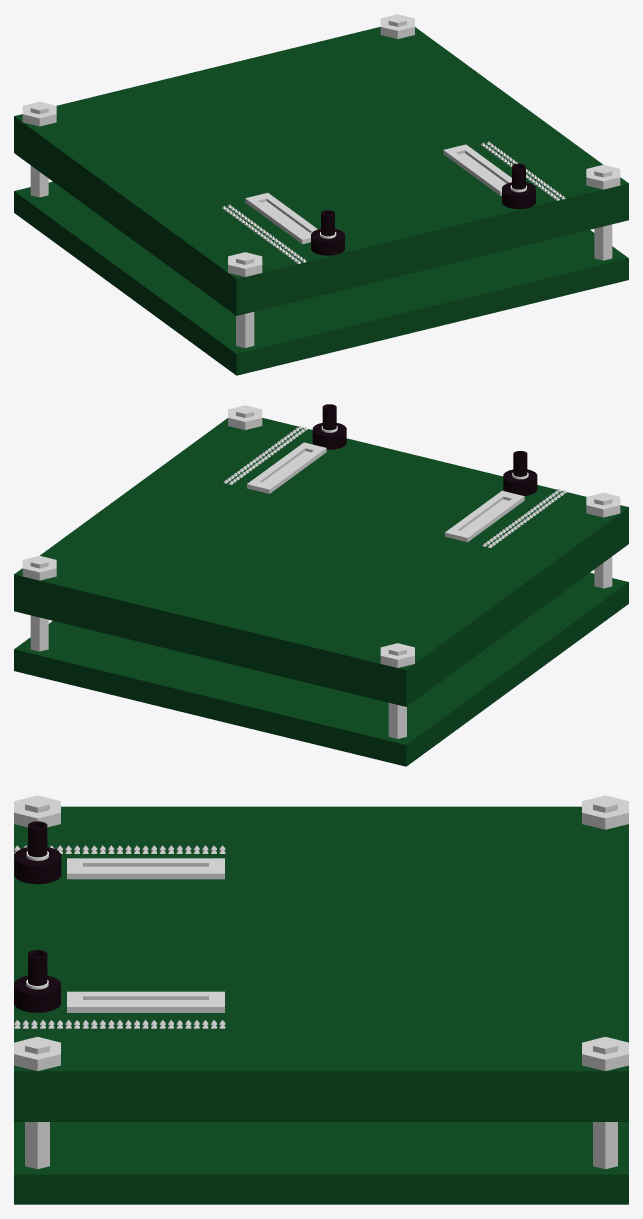
Rendered from CactusBoard.FBX.
The picture shows the model from 3 angles, top to bottom: view 1: azimuth 30°, elevation 25°; view 2: azimuth 150°, elevation 25°; view 3: azimuth 270°, elevation 25°; orthographic projection. The views are drawn at different scales.
Parts seen in each view (by area): view 1: Platine, Platine001, Box002, Box001, Gengon001, Gengon004, Gengon003, Gengon002, Cylinder003, Cylinder006; view 2: Platine, Platine001, Box002, Box001, Gengon002, Gengon003, Gengon004, Gengon001, Cylinder006, Cylinder003; view 3: Platine, Platine001, Box002, Box001, Gengon001, Gengon002, Gengon003, Cylinder003, Cylinder006, Gengon004, Cylinder004, Cylinder007.
Boxes of the visible parts, x1,y1,x2,y2 form: Platine: [14, 27, 628, 315]; Platine001: [14, 181, 628, 375]; Box002: [245, 193, 317, 244]; Box001: [443, 144, 511, 195]; Gengon001: [586, 164, 620, 260]; Gengon004: [228, 252, 262, 347]; Gengon003: [22, 101, 56, 197]; Gengon002: [380, 14, 414, 38]; Cylinder003: [311, 229, 344, 255]; Cylinder006: [502, 182, 535, 209]; Platine: [14, 418, 628, 706]; Platine001: [14, 572, 628, 766]; Box002: [445, 490, 524, 542]; Box001: [247, 442, 326, 493]; Gengon002: [22, 555, 56, 651]; Gengon003: [380, 643, 414, 738]; Gengon004: [586, 492, 620, 588]; Gengon001: [228, 405, 262, 429]; Cylinder006: [312, 423, 346, 449]; Cylinder003: [503, 469, 537, 495]; Platine: [14, 806, 628, 1121]; Platine001: [14, 1122, 628, 1204]; Box002: [67, 858, 224, 879]; Box001: [67, 991, 224, 1012]; Gengon001: [14, 1037, 60, 1169]; Gengon002: [582, 1037, 628, 1169]; Gengon003: [582, 795, 628, 829]; Cylinder003: [14, 847, 61, 884]; Cylinder006: [14, 975, 60, 1012]; Gengon004: [14, 795, 60, 827]; Cylinder004: [28, 821, 47, 857]; Cylinder007: [28, 950, 47, 985].
Size of the model in its own units: 576 by 185 by 566.
